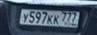license-plateSW: (19, 8, 80, 29)
